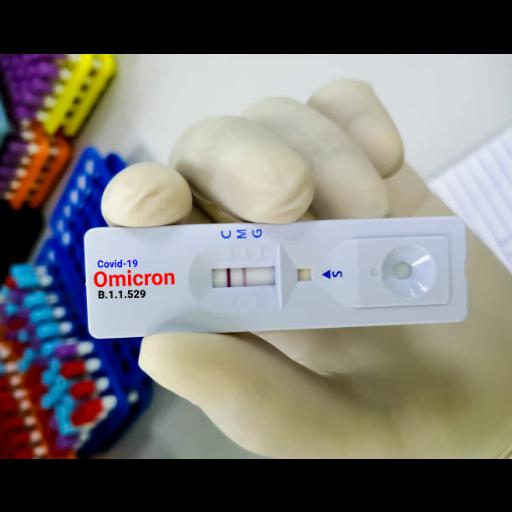Pos: (87, 219, 468, 339)
